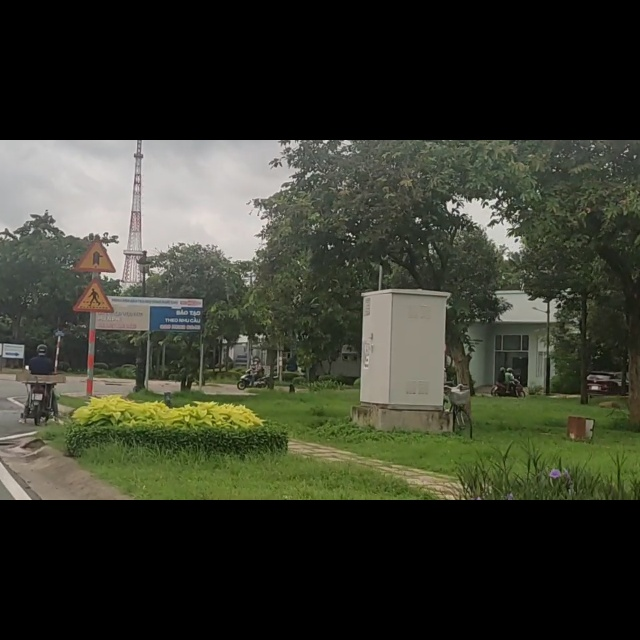bien_nguy_hiem: (73, 245, 117, 306), (75, 173, 116, 235)
